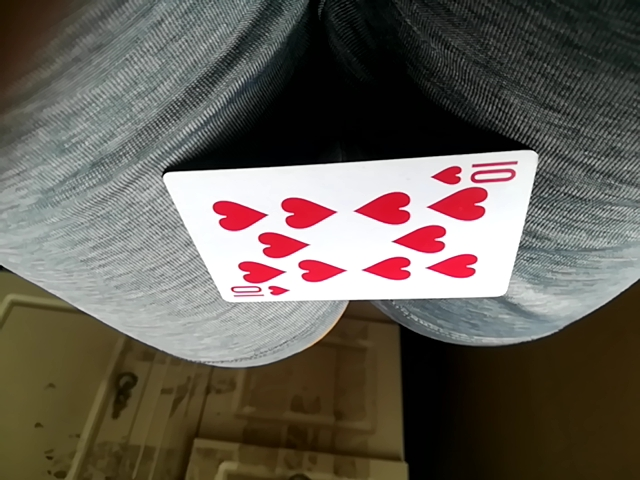hx 10: (158, 152, 534, 304)
